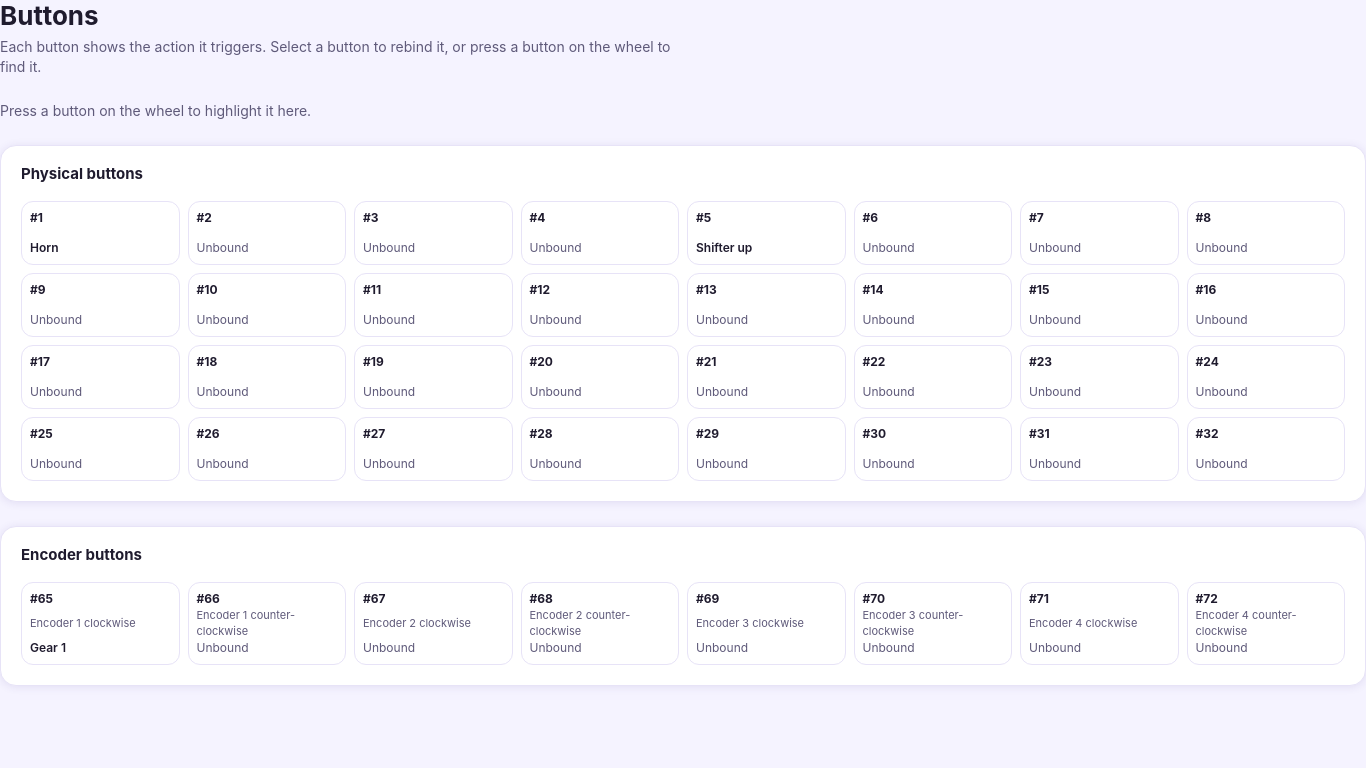
Test: Buttons screen › press-to-capture switches the rebind target to the pressed button
The image size is (1366, 768).
Expected: the text "Horn" is shown, [30,240,58,256]
Click the button with aria-label "Rebind button 2" at (267, 232), box [188,200,346,264]
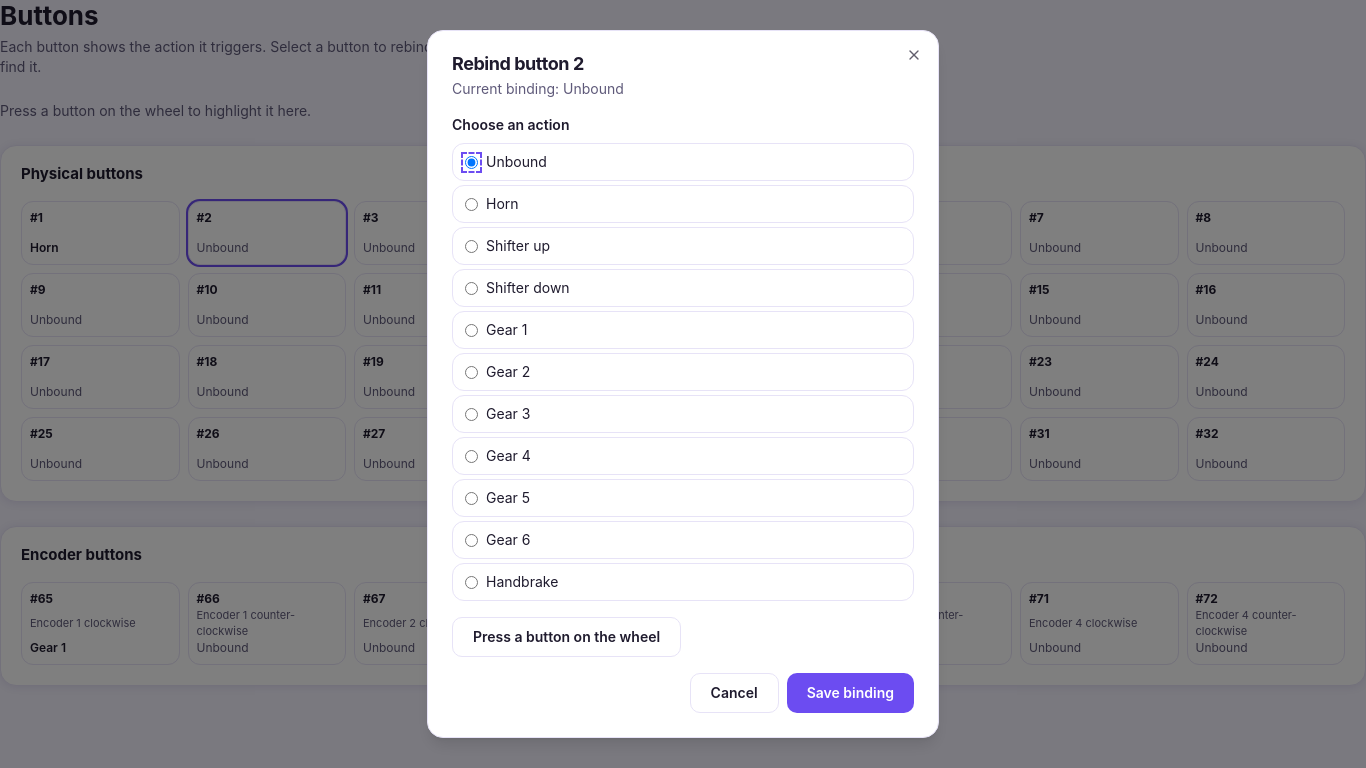
Result: the heading "Rebind button 2" is shown at [452,53,584,74]
Click the button "Press a button on the wheel" at (567, 637), box [452,617,681,657]
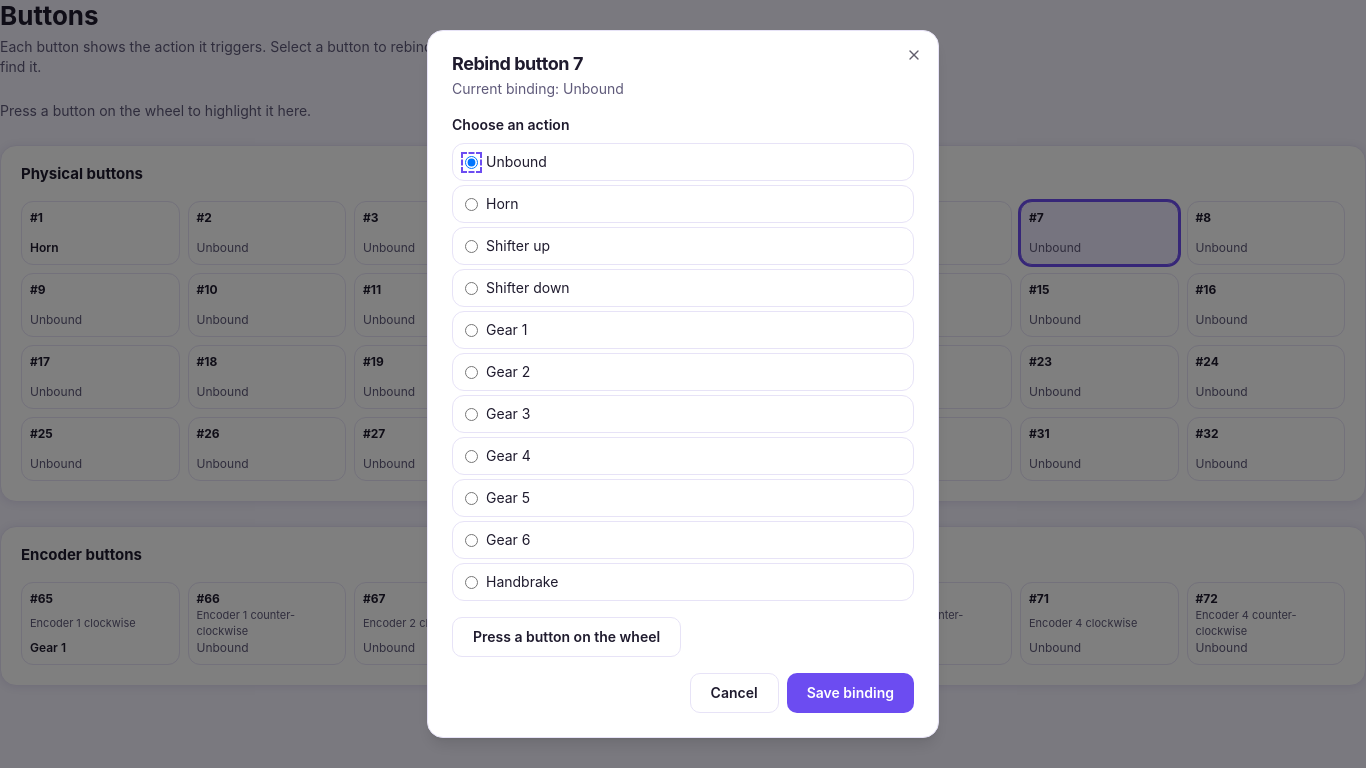
Result: the heading "Rebind button 7" is shown at [452,53,583,74]
